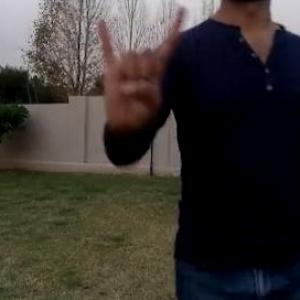takeoff-hand: (91, 0, 190, 143)
